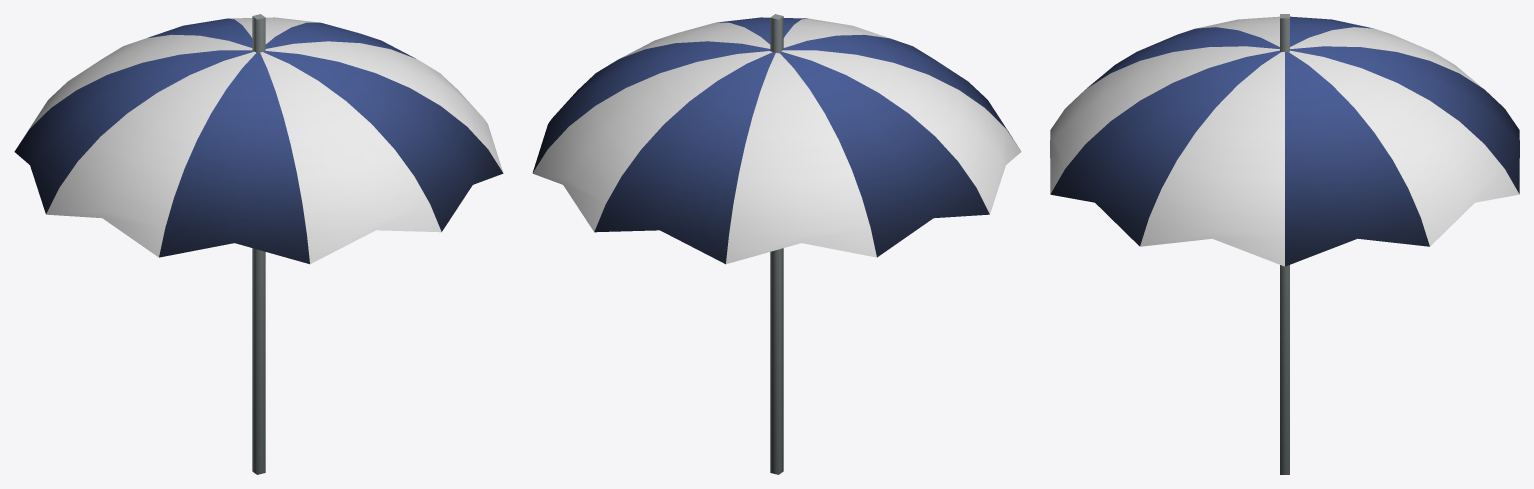
The model's file is ombrellone_2.fbx.
The picture shows the model from 3 angles, left to right: view 1: azimuth 30°, elevation 25°; view 2: azimuth 150°, elevation 25°; view 3: azimuth 270°, elevation 25°; orthographic projection.
Parts seen in each view (by area): view 1: ombrellone_2; view 2: ombrellone_2; view 3: ombrellone_2.
Part boxes in pixels (left/top/right/bottom): ombrellone_2: left=14, top=14, right=503, bottom=474; ombrellone_2: left=532, top=14, right=1021, bottom=474; ombrellone_2: left=1050, top=14, right=1519, bottom=474.
Bounding box in the file's own units: 196 × 200 × 186.
